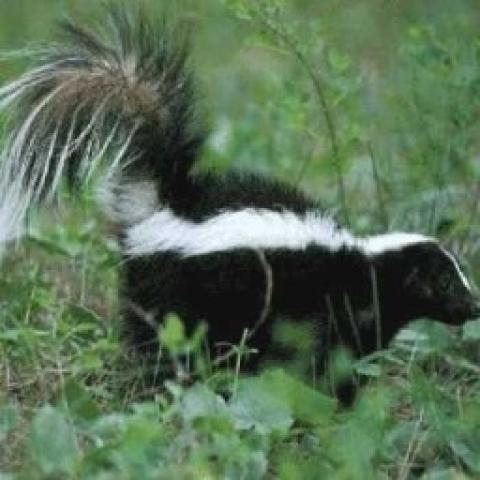small_animal: (17, 29, 478, 396)
